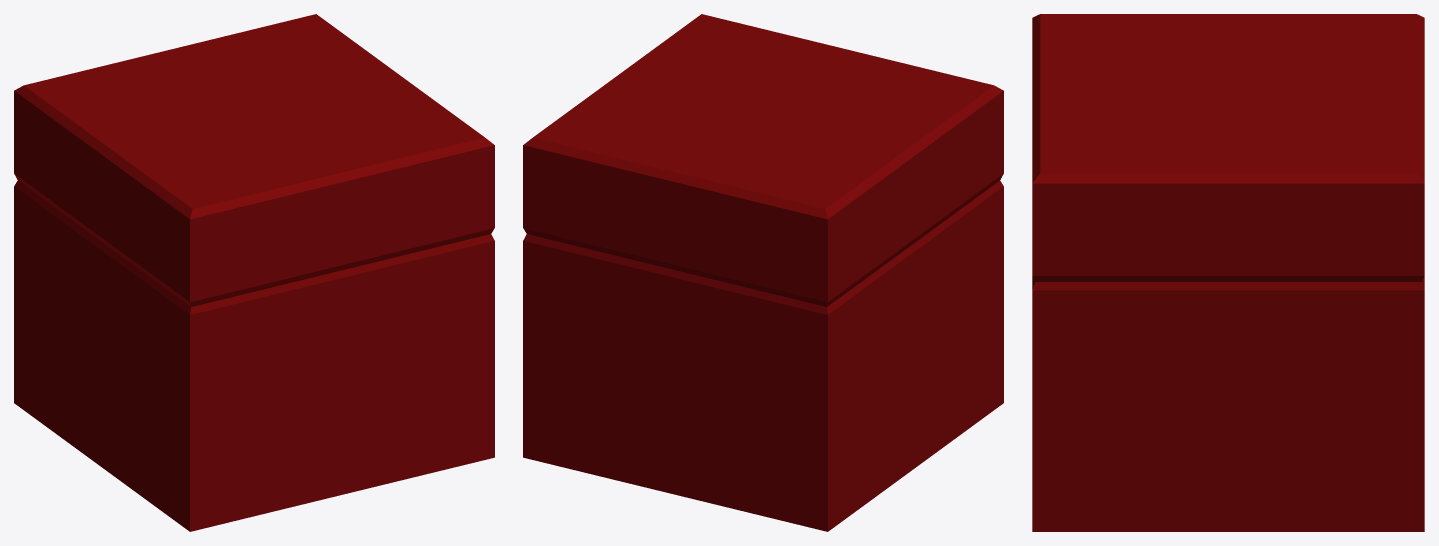
File: BuildableBlock01D.obj
The picture shows the model from 3 angles, left to right: view 1: azimuth 30°, elevation 25°; view 2: azimuth 150°, elevation 25°; view 3: azimuth 270°, elevation 25°; orthographic projection. The views are drawn at different scales.
Visible parts, largest first — view 1: Floor01_Cube.001; view 2: Floor01_Cube.001; view 3: Floor01_Cube.001.
Boxes of the visible parts, x1=… form: Floor01_Cube.001: x1=14, y1=14, x2=494, y2=531; Floor01_Cube.001: x1=523, y1=14, x2=1003, y2=531; Floor01_Cube.001: x1=1032, y1=14, x2=1424, y2=531.
Size of the model in its own units: 2 by 2 by 2.
